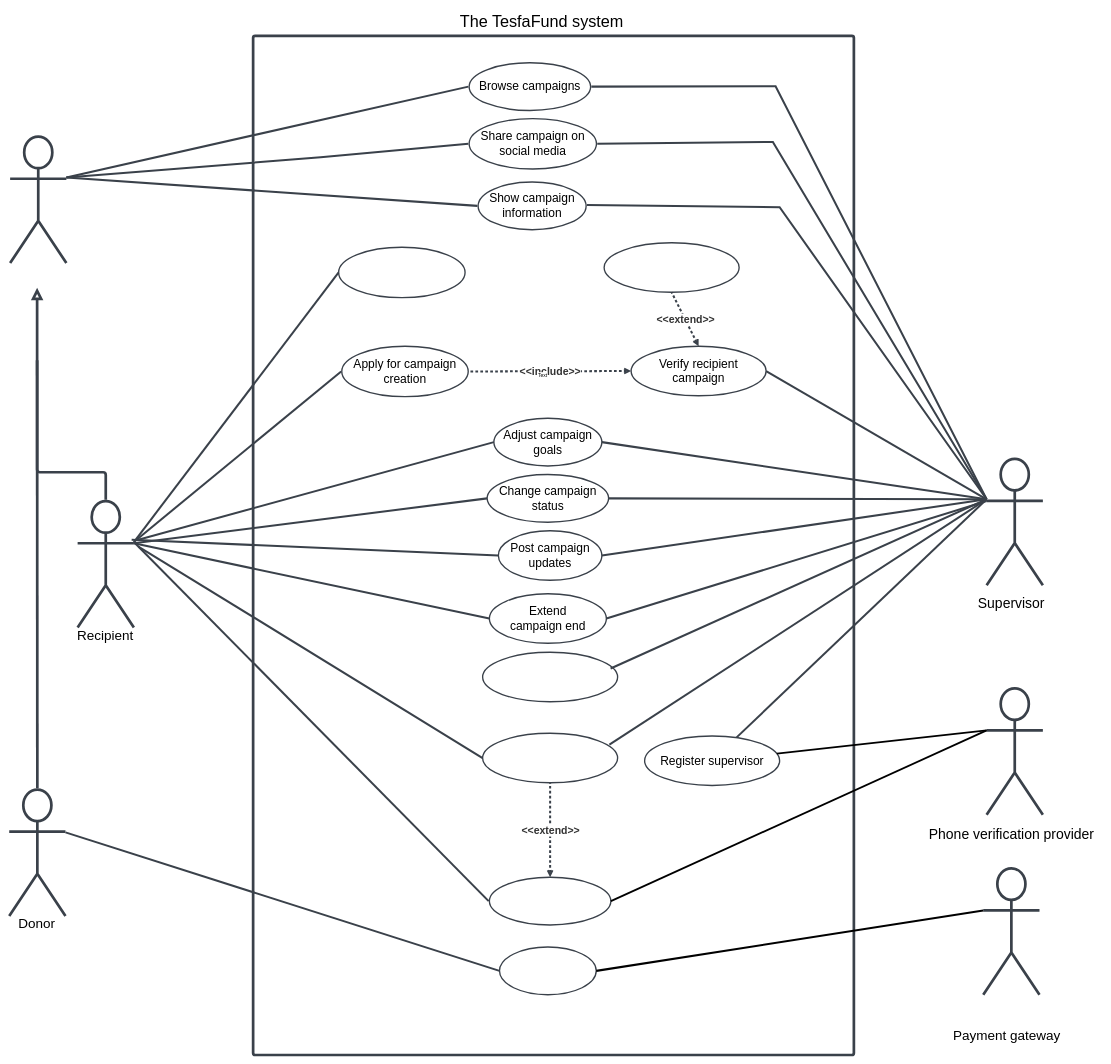
Some shapes in this 1111 by 1064 pixel diagram are drawn without their labels. The shapes that lost their labels are listed below. From the top down, each one's centre as x and y in pixels, then its label:
(38,199): End user
(402,272): Request campaign adjustment
(671,267): Activate recipient campaign
(550,676): Manage recipient campaigns
(550,757): Login user
(549,900): Create recipient account
(548,970): Donate to campaign
